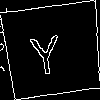Y: (27, 25, 63, 76)
